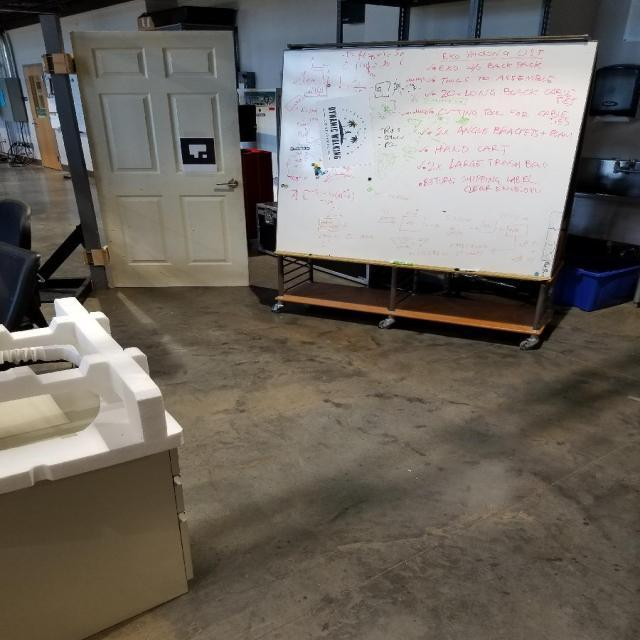door: (66, 27, 252, 290), (214, 174, 242, 188)
